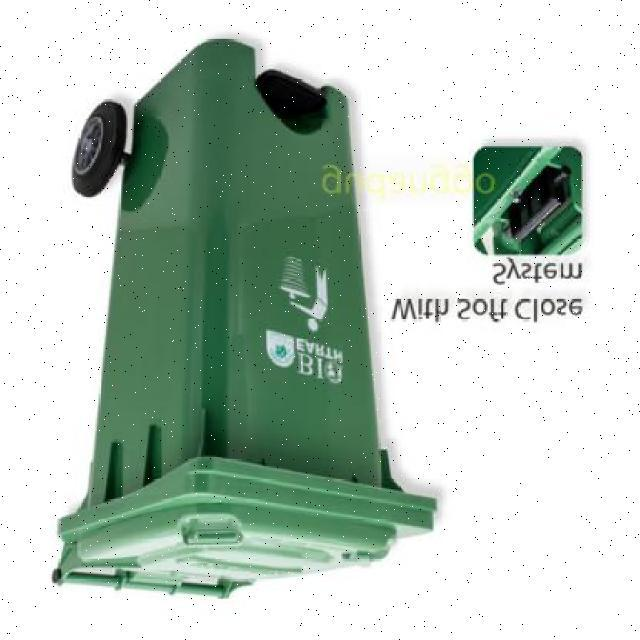garbage container: (37, 32, 448, 614)
